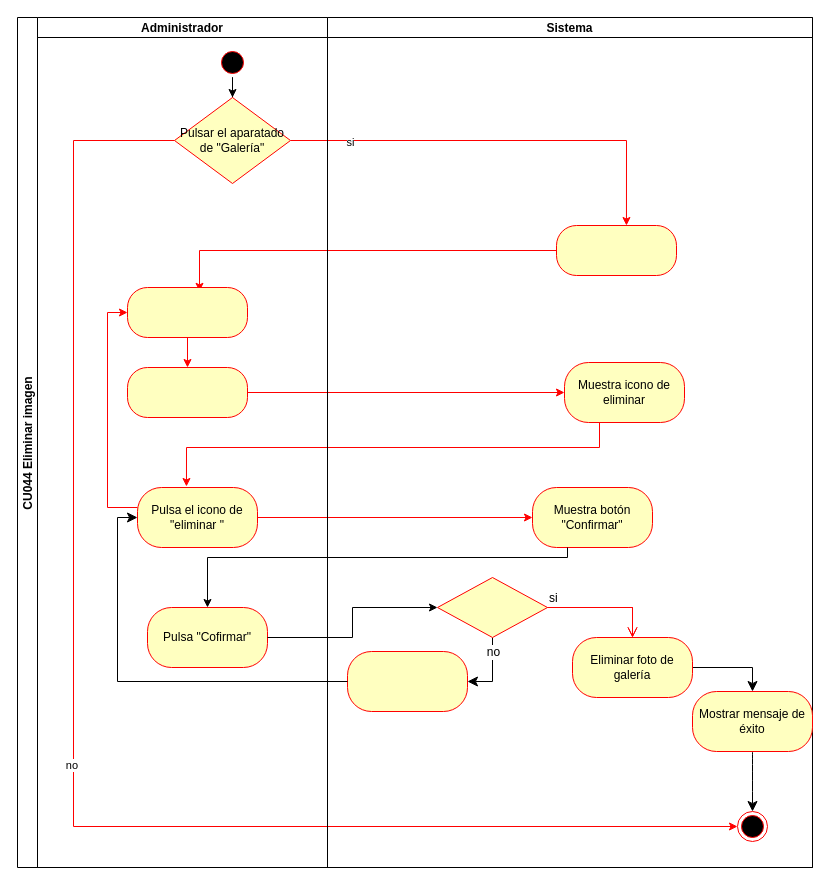
The diagram is 830 pixels wide and 885 high, and some of its shapes have lost their labels. Here are the shapes that lost their labels. From the top down, the centre of each, then its label:
point 616,250: Lo redirige al apartado
point 187,312: Pulsa botón "Eliminar imagen"
point 187,392: selecciona la imagen
point 492,607: ¿Imagen eliminada?
point 407,681: Mostrar mensaje de error
